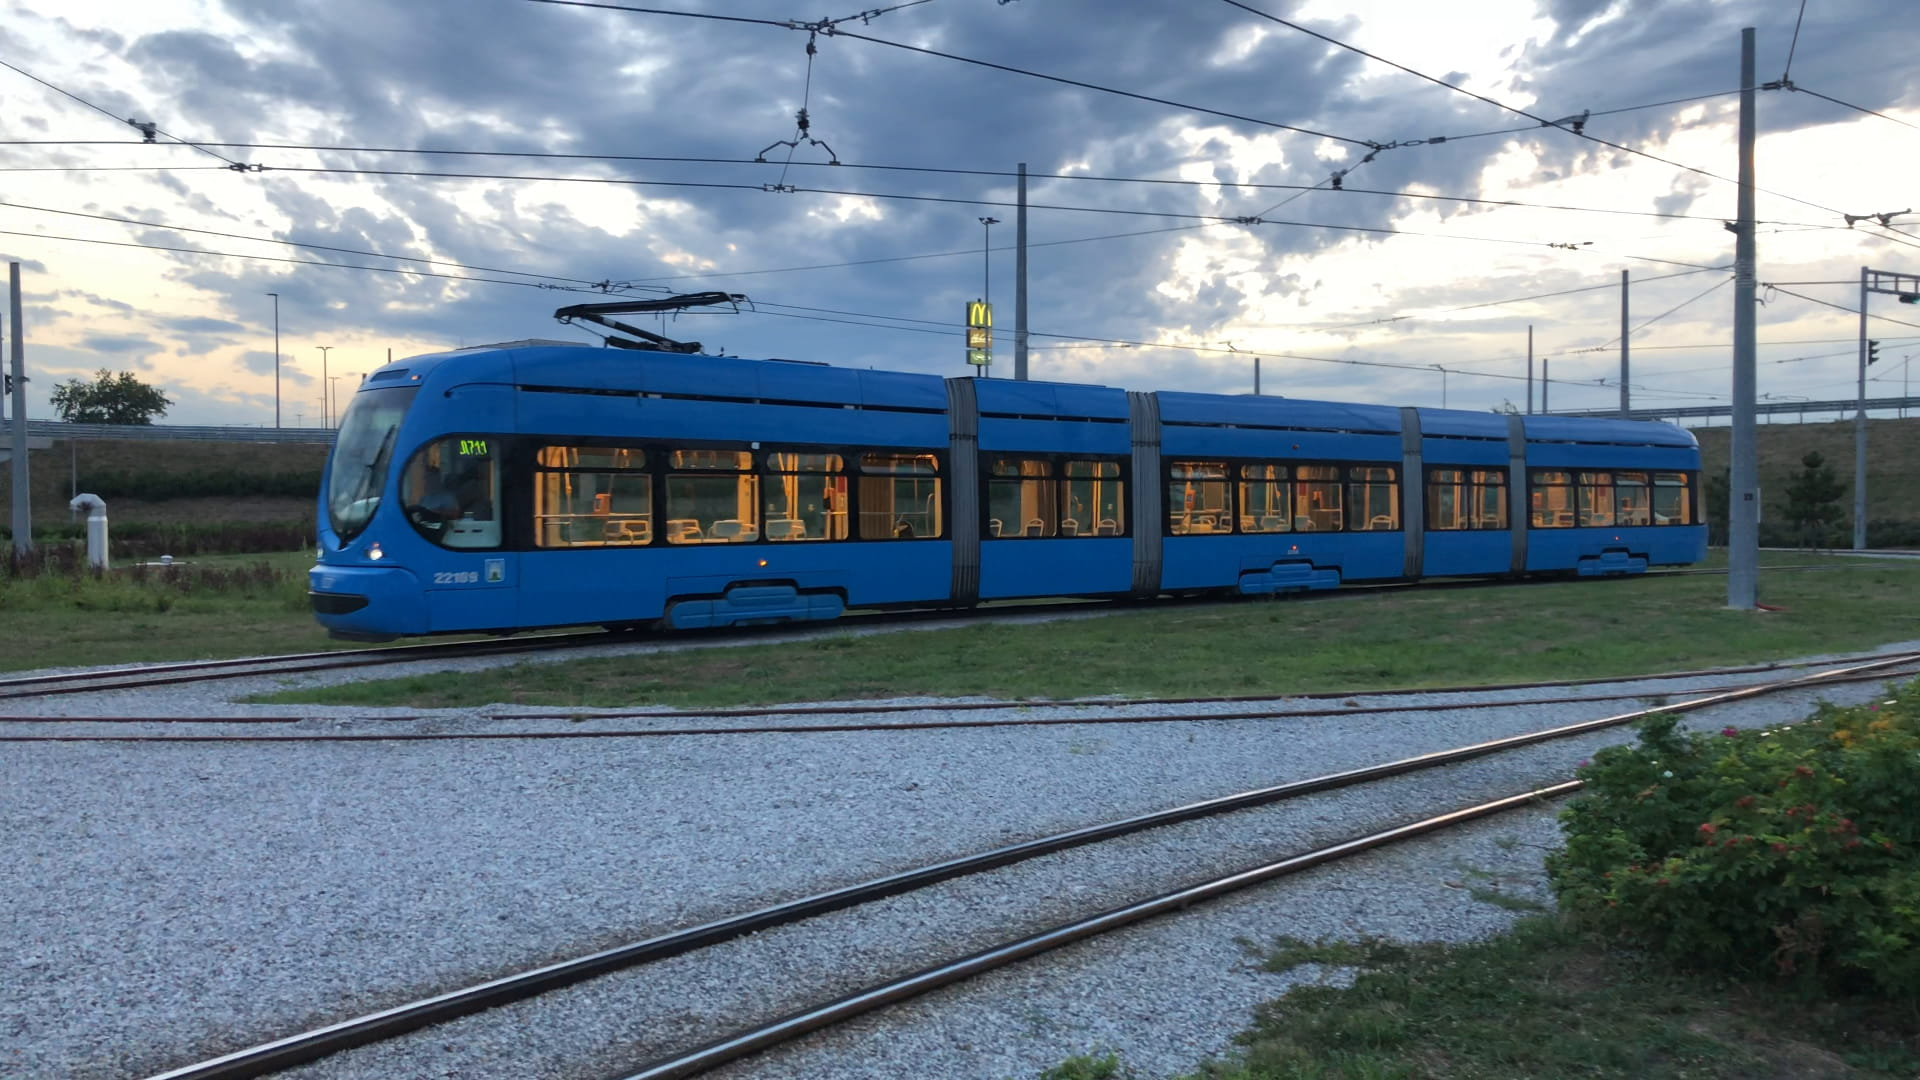tramvaj: (297, 334, 1718, 651)
